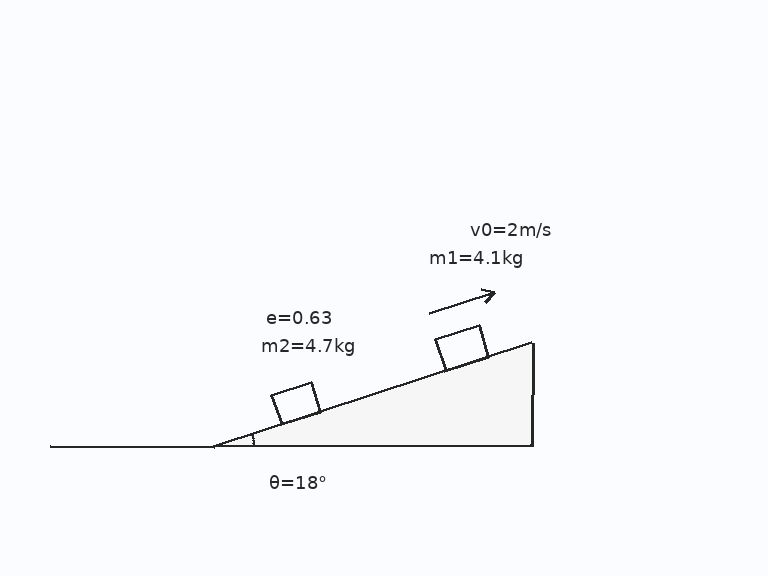block: (432, 322, 491, 373), (270, 380, 323, 426)
ramp: (212, 341, 534, 448)
